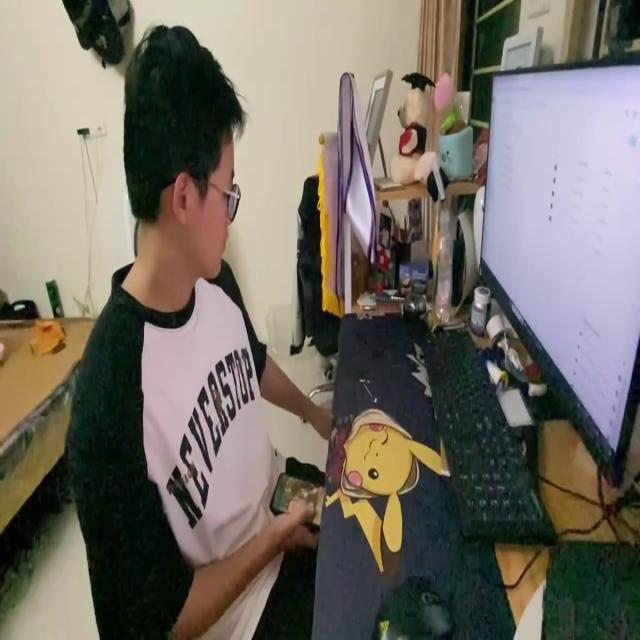laptop: (481, 47, 640, 486)
phone: (270, 462, 324, 524)
student: (63, 15, 325, 640)
